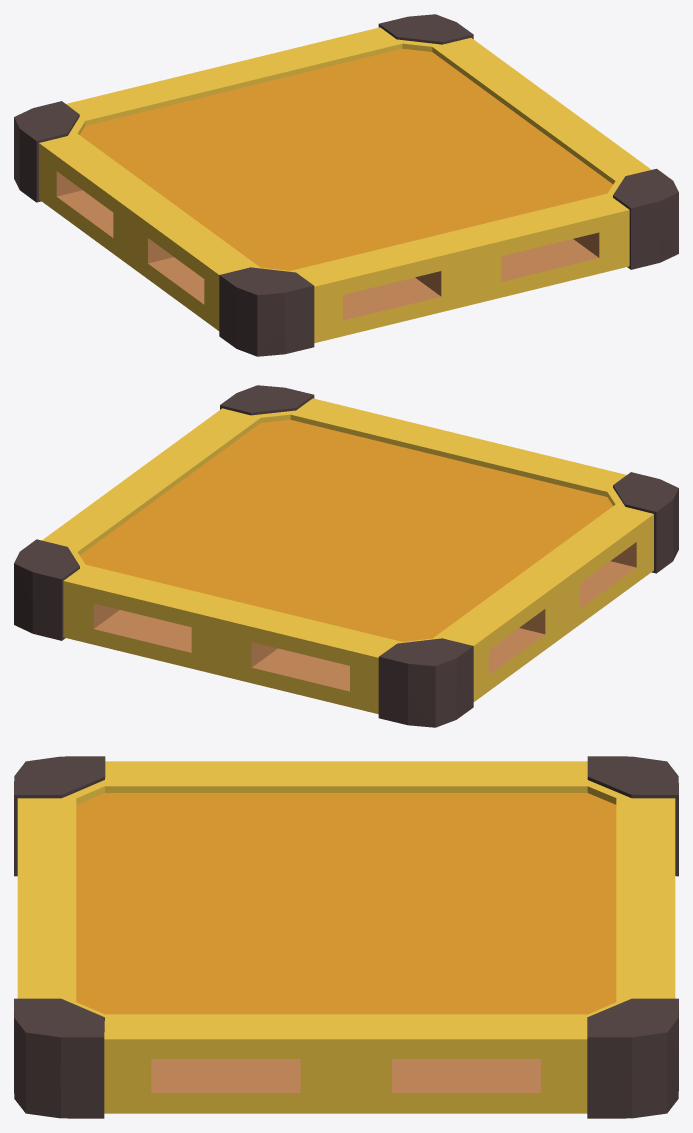
File: Box_Interaction.fbx
3 views of the same model, one above another, from view 1: azimuth 30°, elevation 25°; view 2: azimuth 150°, elevation 25°; view 3: azimuth 270°, elevation 25° (orthographic). The views are drawn at different scales.
Visible parts, largest first — view 1: Box_Interaction; view 2: Box_Interaction; view 3: Box_Interaction.
Boxes of the visible parts, <box> form: Box_Interaction: <box>14,14,678,356</box>; Box_Interaction: <box>14,385,678,727</box>; Box_Interaction: <box>14,756,678,1118</box>.
Bounding box in the file's own units: 89.1 × 12 × 89.11.
